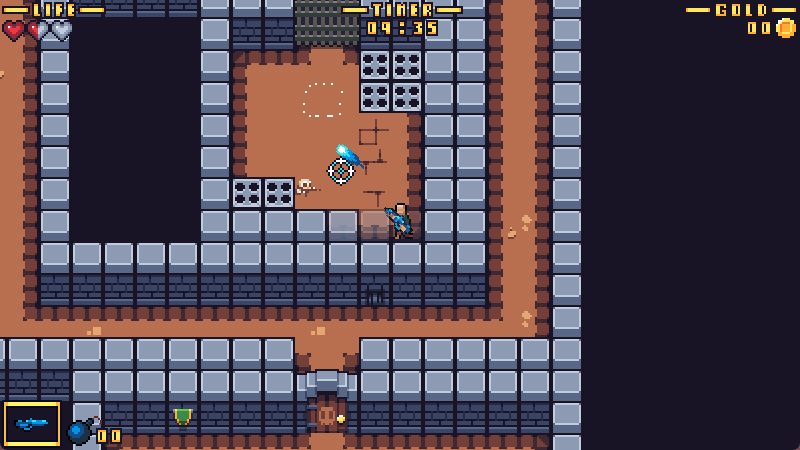aim: (328, 157, 356, 186)
bomb_counter_0: (68, 414, 122, 450)
door: (295, 371, 359, 432)
enemy_slug_big_hit: (301, 80, 344, 119)
gold_counter: (685, 1, 800, 39)
health-3: (1, 18, 76, 42)
player: (384, 202, 416, 245)
shoot: (335, 142, 366, 169)
timer: (343, 1, 463, 37)
trap_door: (292, 1, 359, 49)
trap_off: (361, 51, 423, 113), (229, 178, 296, 209)
